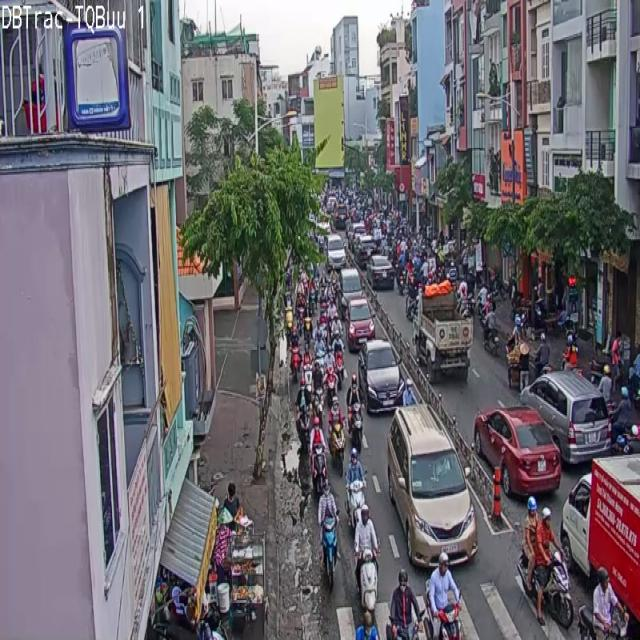car: (426, 552, 460, 639), (544, 550, 574, 627), (322, 491, 338, 587), (346, 451, 366, 516), (360, 560, 377, 610)
traffic-light: (386, 402, 477, 566), (522, 371, 609, 464), (474, 407, 559, 496), (358, 341, 402, 412), (347, 299, 374, 351)
